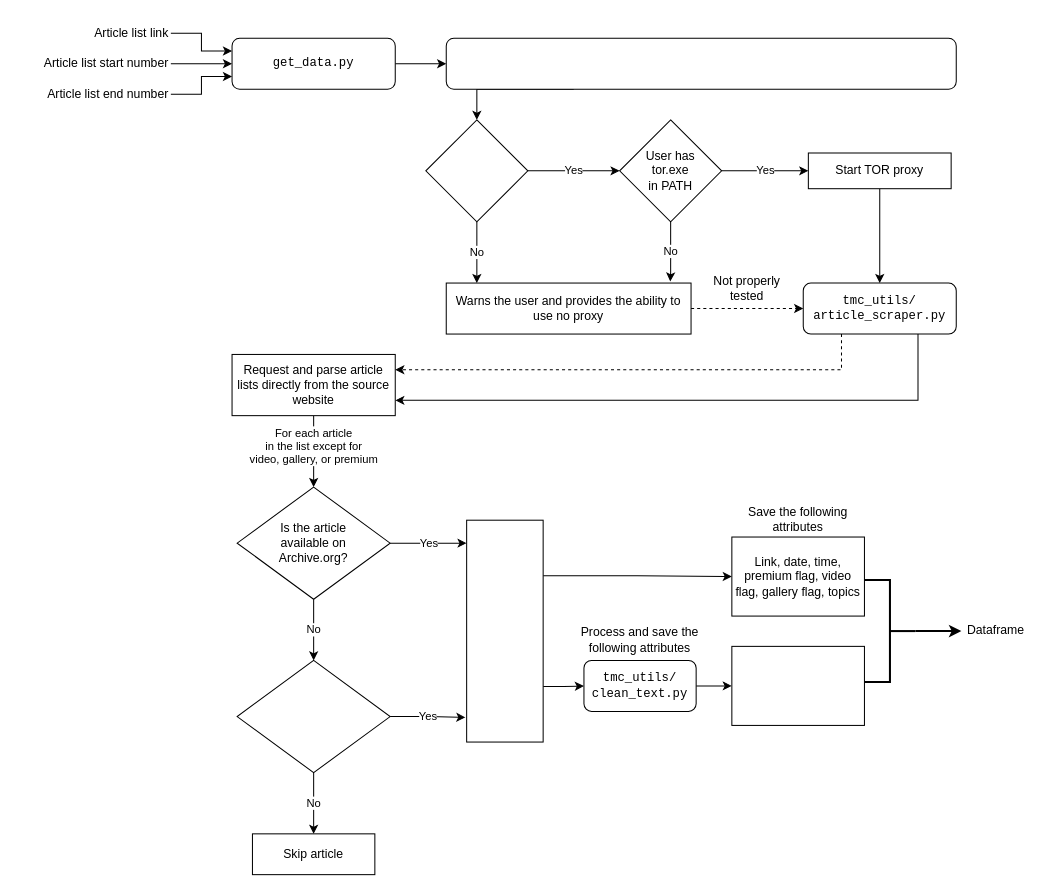
The diagram is 1049 pixels wide and 893 high, and some of its shapes have lost their labels. Here are the shapes that lost their labels. From the top down, the centre of each, then its label:
point (700, 63): tmc_utils/tor_initialization.py
point (476, 170): User uses Windows
point (504, 630): Request the article
point (797, 685): Title, short opener, long opener, article word counter, hashed author names
point (313, 716): Is the article available on Google Webcache?
